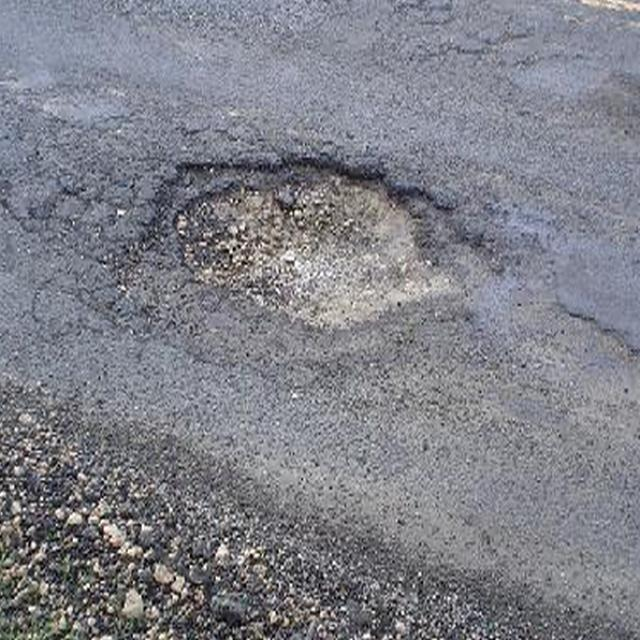Lubang: (133, 158, 483, 327)
